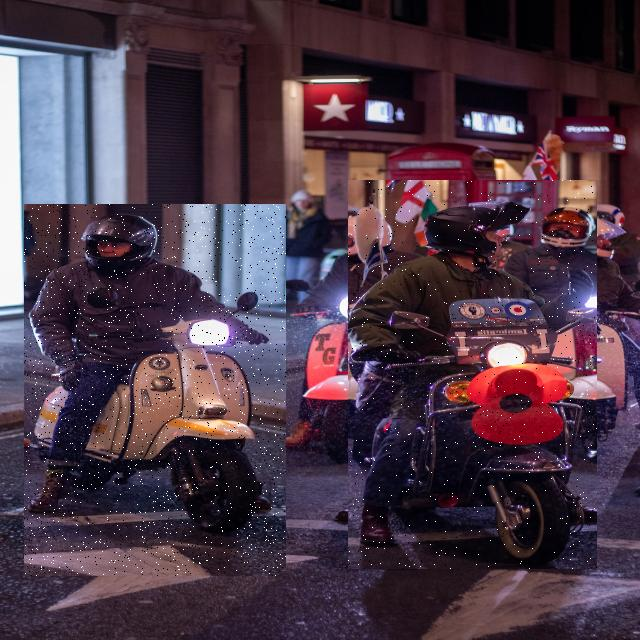With Helmet: (24, 204, 286, 576), (348, 180, 597, 569)
